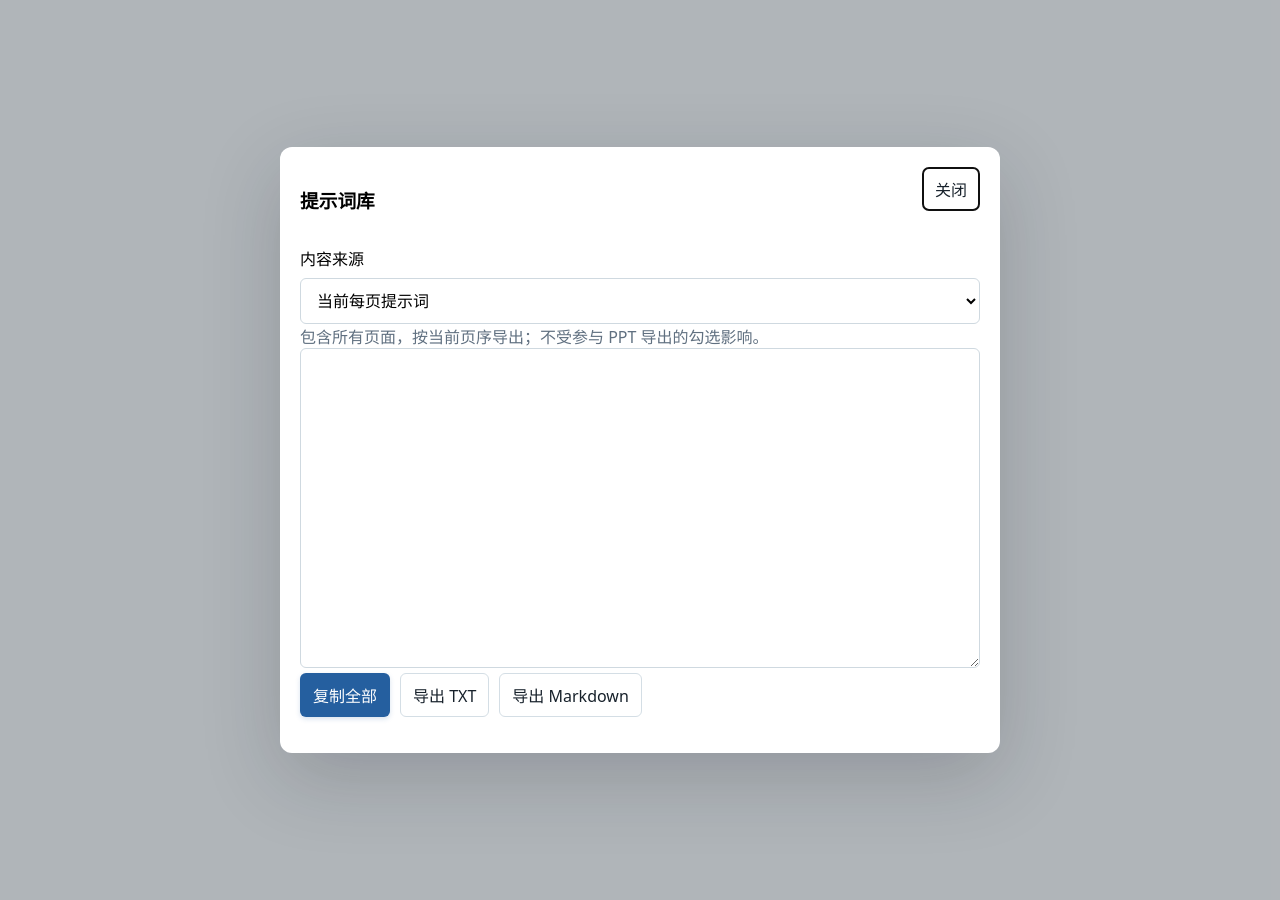
Test: prompt library › explains that historical originals were never saved
Step 1. Select "导入原文" in the dropdown labelled "内容来源" → x=640, y=301, box [300,278,980,324]
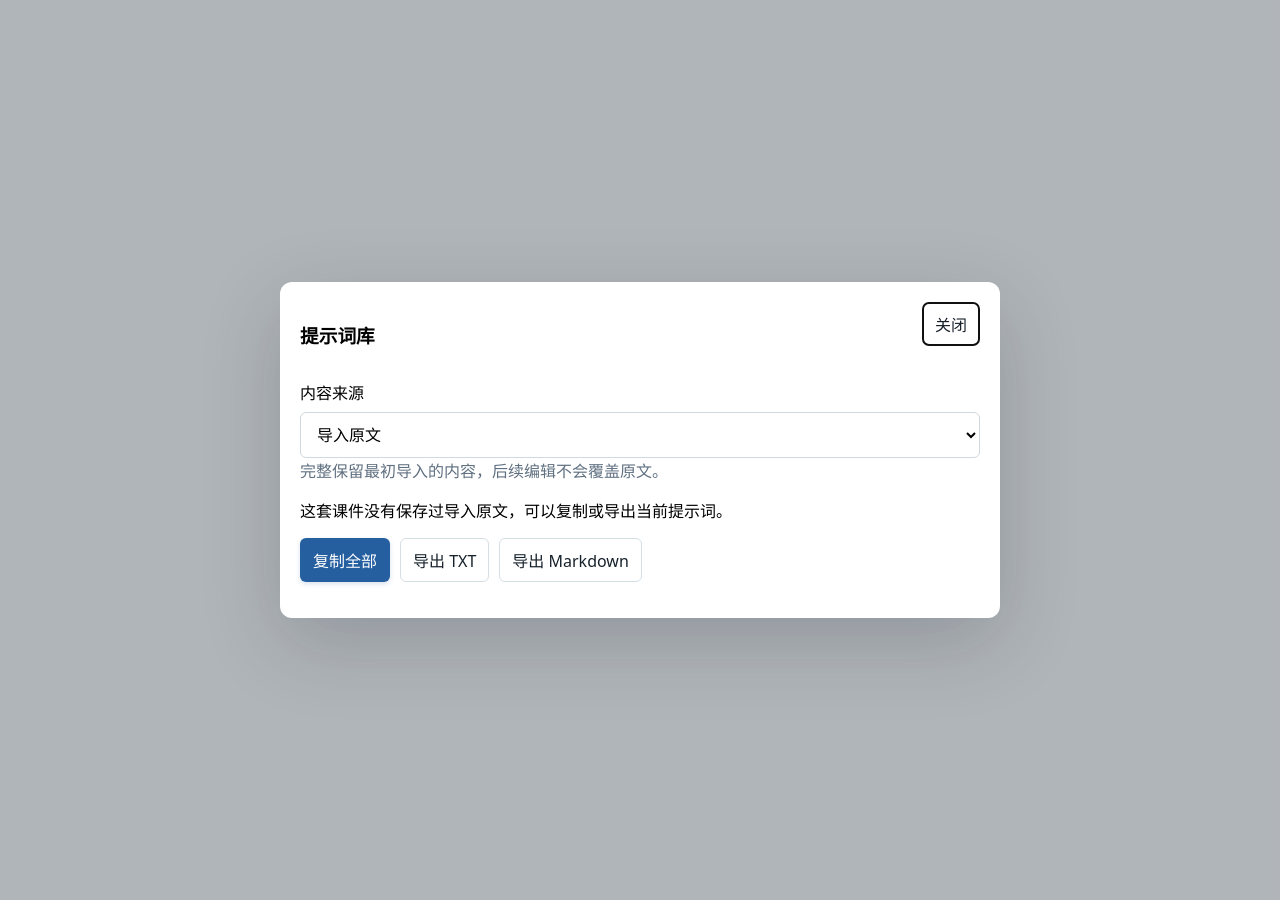
Expected: the button "复制全部" is disabled, [300,538,390,582]
Expected: the text "这套课件没有保存过导入原文，可以复制或导出当前提示词。" is shown, [300,500,732,522]
